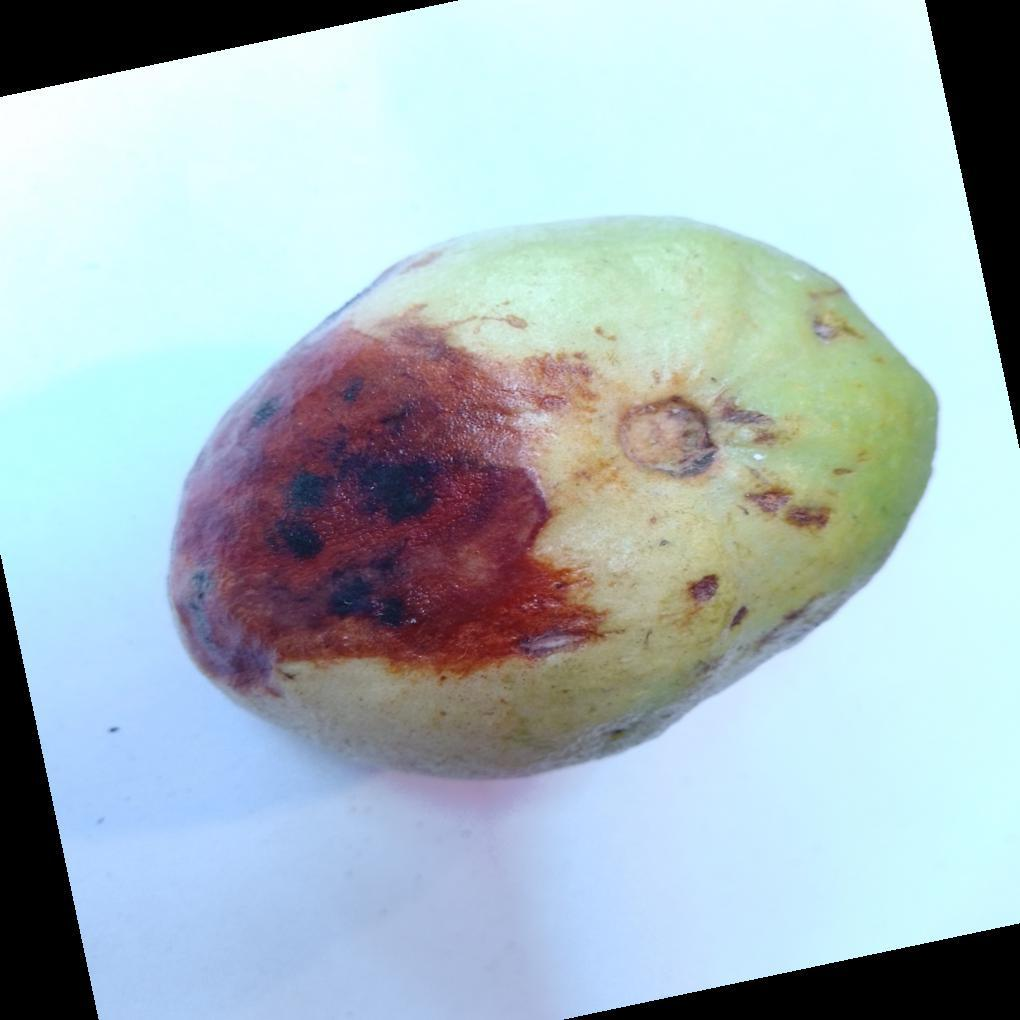FreshOrange: (164, 215, 941, 785)
